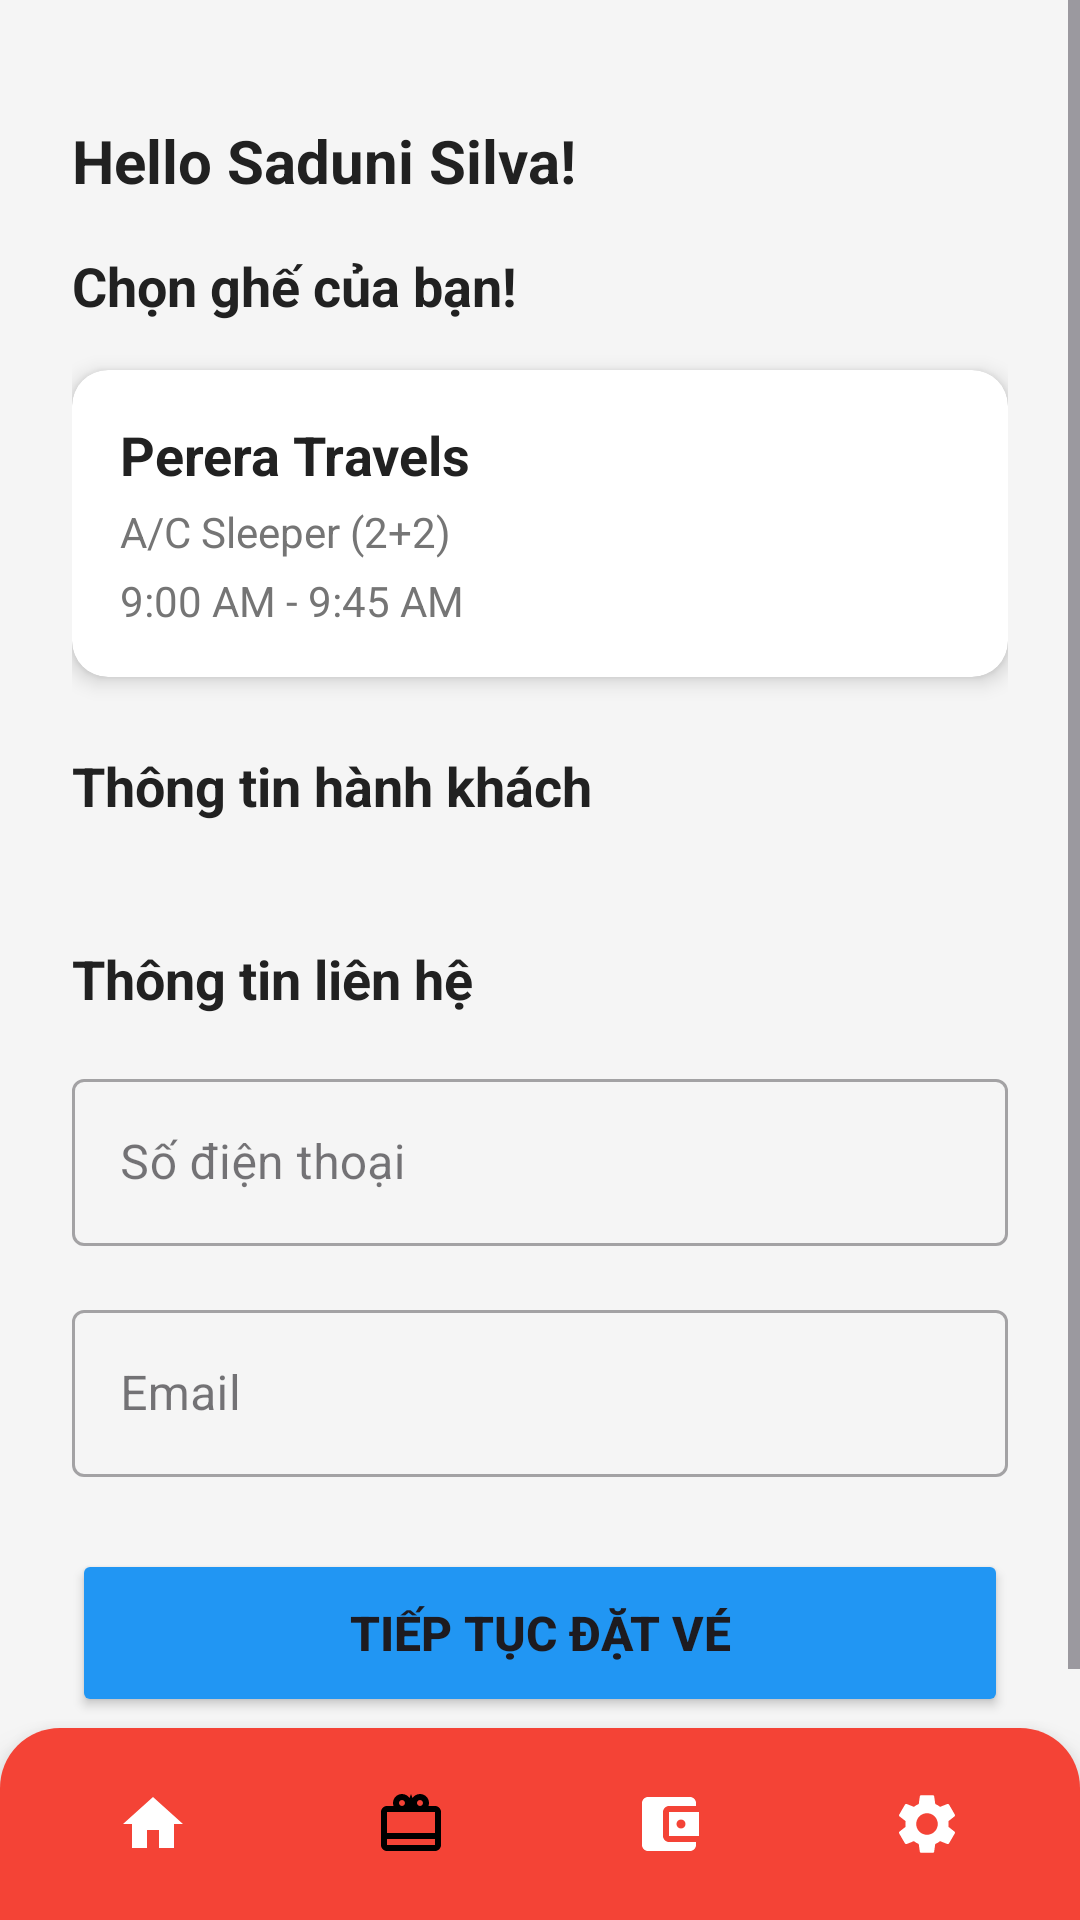

Point at icon controls on the screen. Image size 1080px×1920px, points as [x,y].
Home: [153,1822]
Settings: [927,1824]
Wallet: [670,1824]
